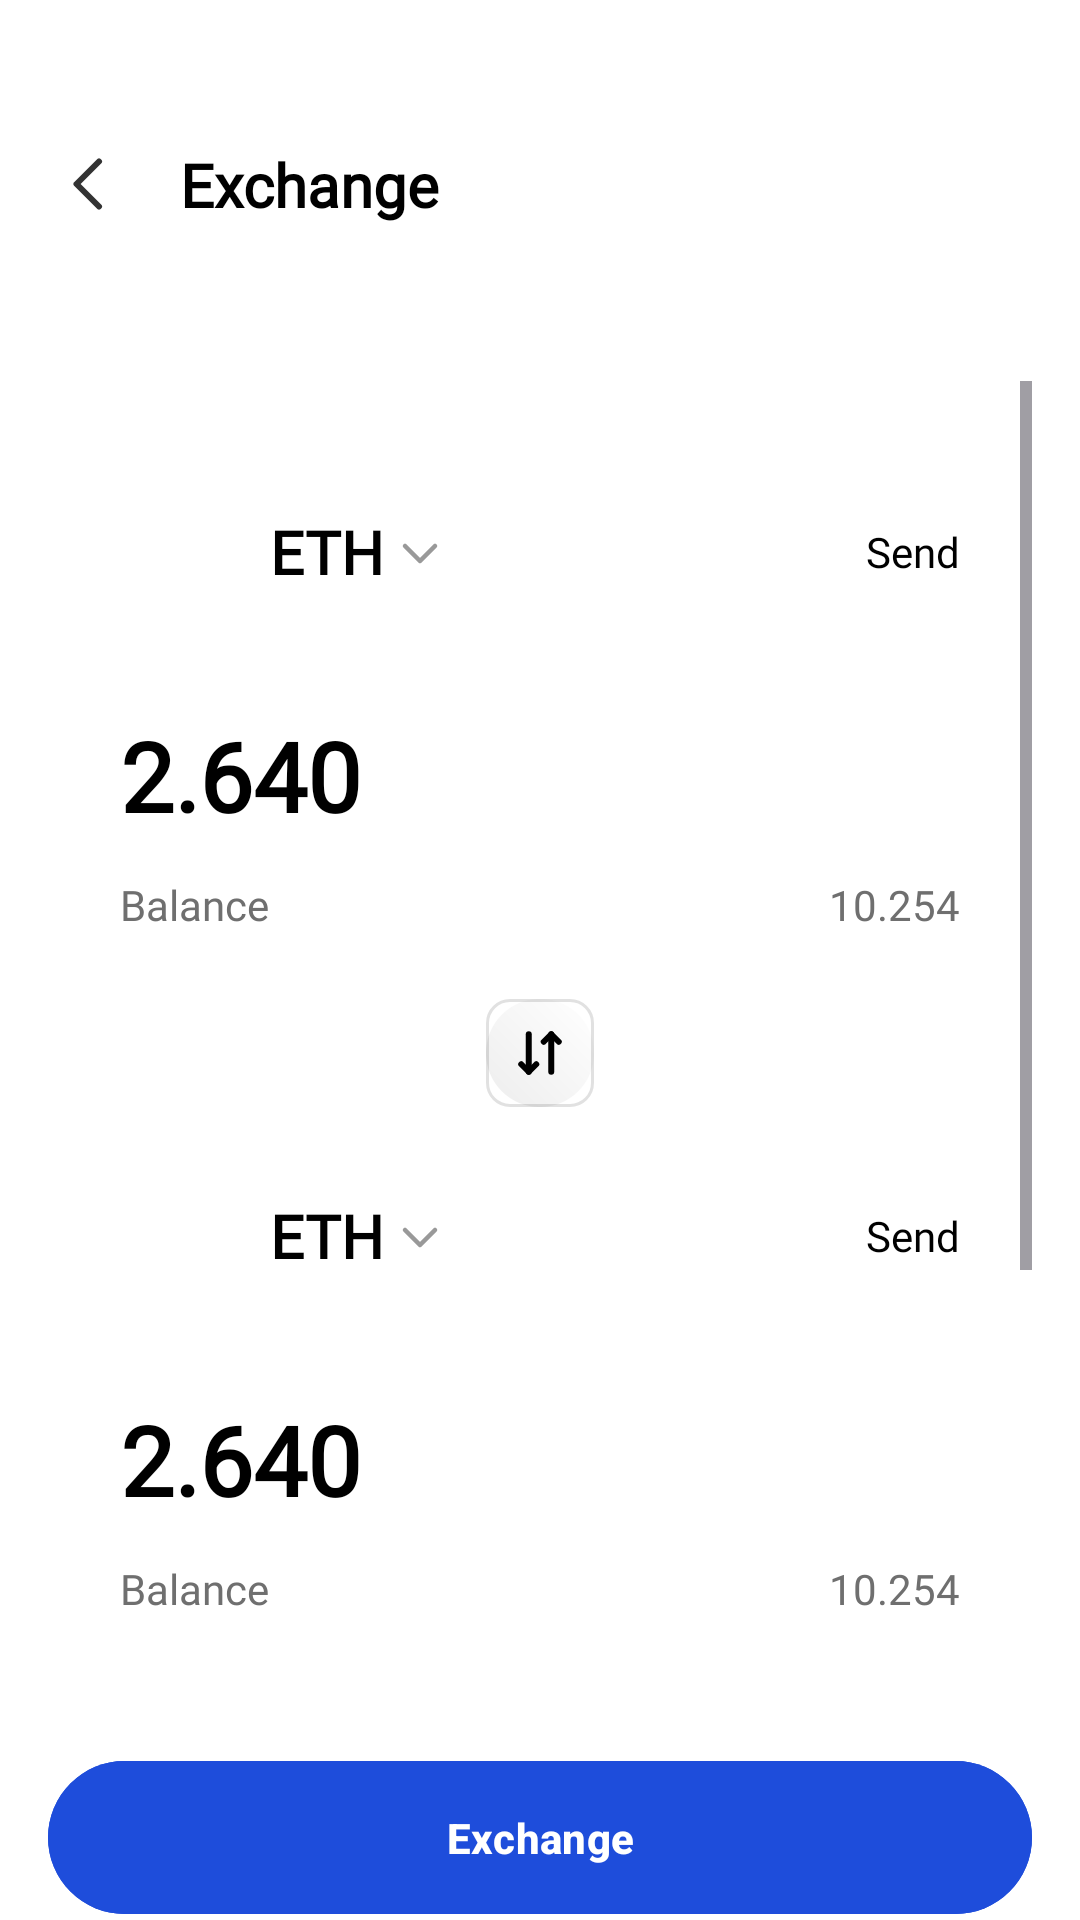

Screen size 1080 × 1920. Icon name, then its box in pixels as (x1, y1, x2, y2):
arrow down: (403, 543, 437, 564), (403, 1227, 437, 1248)
Back: (73, 158, 103, 210)
switch: (486, 999, 594, 1107)
